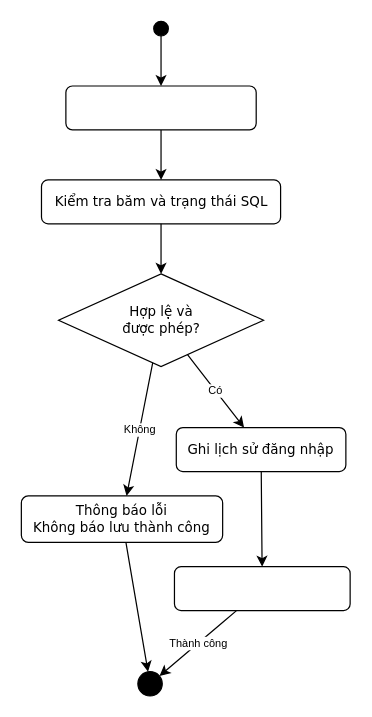
This 372x717 diagram has some shape labels left out. Here are the shapes that lost their labels. From the top down, the centre of each, then its label:
At (160,107): "Nhập email và mật khẩu".
At (261,588): "Cấp token theo vai trò".
